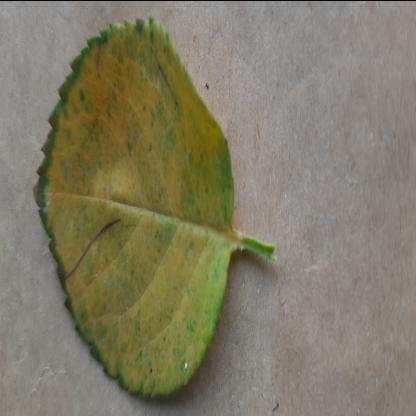black-spot: (33, 15, 236, 416)
